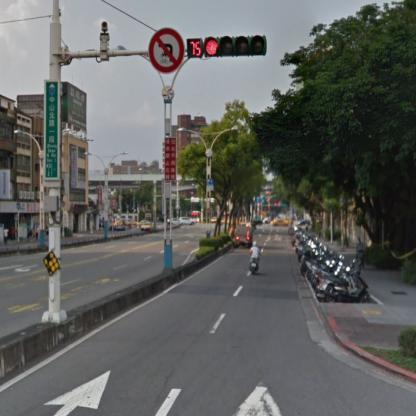Red Light: (185, 34, 270, 58)
